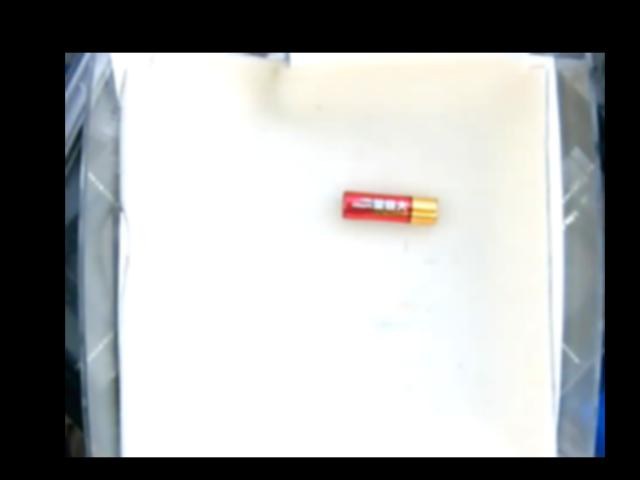Battery: (340, 192, 441, 222)
